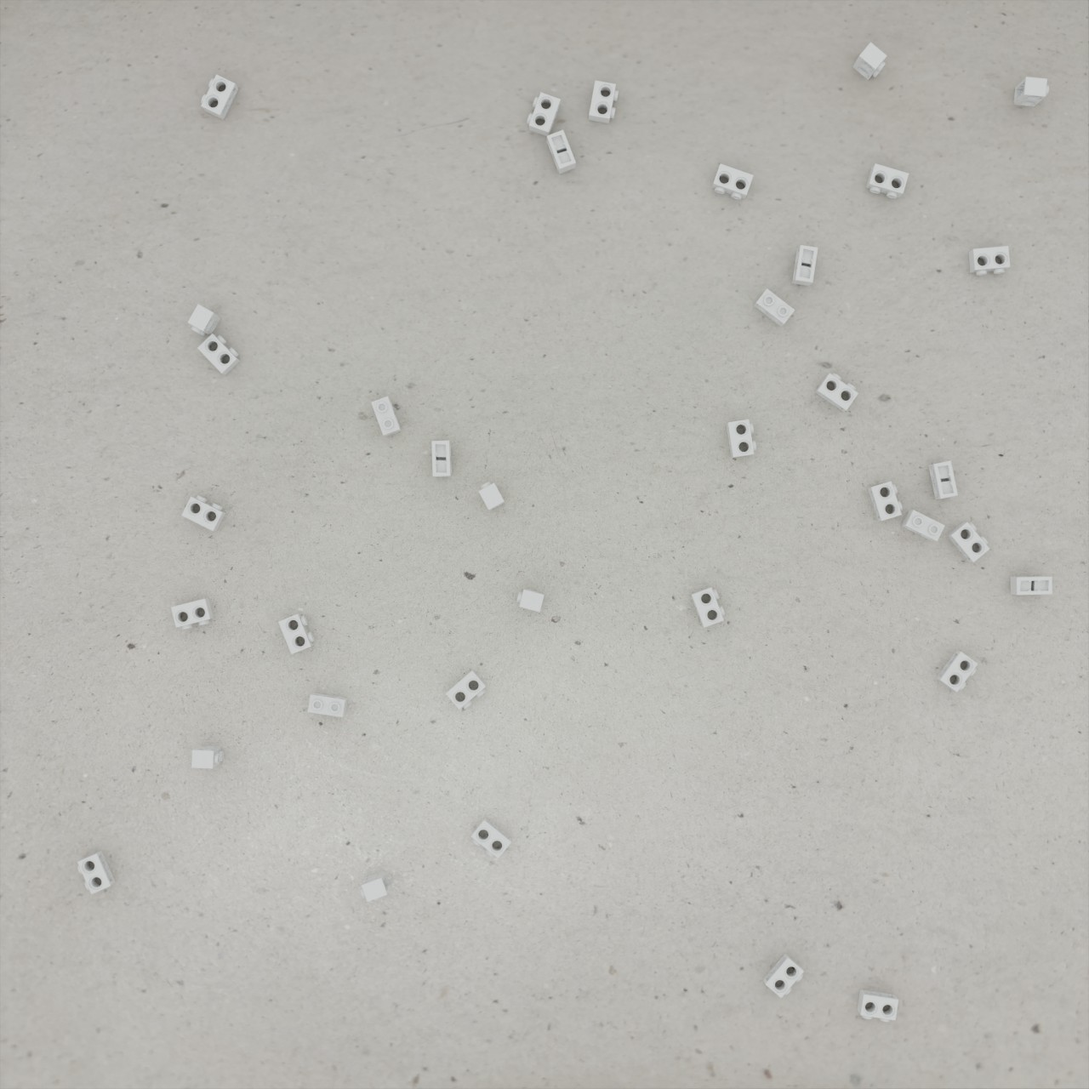lego: (763, 953, 804, 998), (197, 333, 240, 375), (936, 650, 978, 692), (201, 74, 239, 120), (471, 817, 512, 859), (445, 669, 487, 710), (947, 522, 990, 562), (77, 850, 116, 894), (815, 373, 859, 412), (181, 495, 226, 531), (753, 289, 795, 327), (711, 164, 754, 200), (866, 163, 909, 199), (527, 92, 561, 137), (278, 613, 315, 654), (867, 481, 903, 521), (690, 587, 725, 628), (857, 989, 899, 1022), (171, 598, 214, 630), (588, 80, 619, 124), (901, 510, 945, 541), (852, 42, 887, 80), (547, 130, 576, 174), (371, 396, 402, 437), (968, 246, 1010, 276), (726, 419, 756, 458), (928, 461, 958, 499), (188, 304, 221, 337), (1013, 77, 1049, 107), (792, 245, 818, 286), (360, 870, 391, 902), (308, 693, 348, 717), (478, 481, 505, 511), (1010, 576, 1052, 595), (191, 745, 224, 769), (432, 440, 452, 477), (517, 588, 544, 612)
